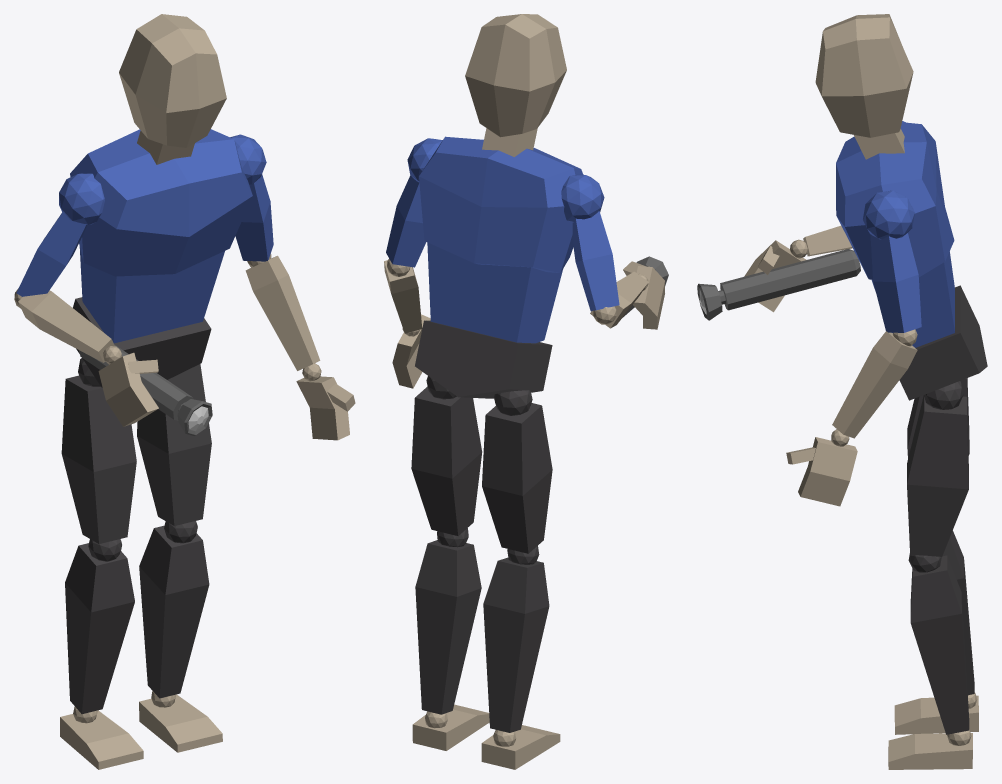
The model's file is PlayerTwo (1).fbx.
3 views of the same model, side by side, from view 1: azimuth 30°, elevation 25°; view 2: azimuth 150°, elevation 25°; view 3: azimuth 270°, elevation 25° (orthographic). The views are drawn at different scales.
Parts seen in each view (by area): view 1: Chest, Head, Tigh.001, Leg, Leg.001, Waist, Tigh, ForeArm, Hip, ForeArm.001, Foot.001, Foot (+10 smaller); view 2: Chest, Head, Waist, Leg.001, Leg, Tigh.001, Tigh, Hip, Arm.001, Arm, Foot, Foot.001 (+8 smaller); view 3: Chest, Head, Tigh, Leg, Circle, Hip, Arm, ForeArm, Foot, Hand, Waist, Shoulder (+7 smaller).
Part boxes in pixels (x1=…): Chest: x1=70, y1=129, x2=252, y2=276; Head: x1=119, y1=14, x2=226, y2=147; Tigh.001: x1=61, y1=375, x2=136, y2=543; Leg: x1=139, y1=525, x2=209, y2=698; Leg.001: x1=65, y1=543, x2=134, y2=714; Waist: x1=79, y1=247, x2=224, y2=343; Tigh: x1=137, y1=364, x2=211, y2=525; ForeArm: x1=245, y1=255, x2=320, y2=370; Hip: x1=73, y1=297, x2=211, y2=387; ForeArm.001: x1=18, y1=290, x2=114, y2=362; Foot.001: x1=60, y1=710, x2=143, y2=769; Foot: x1=139, y1=694, x2=222, y2=752; Chest: x1=419, y1=136, x2=583, y2=272; Head: x1=465, y1=14, x2=566, y2=137; Waist: x1=427, y1=242, x2=562, y2=343; Leg.001: x1=483, y1=557, x2=549, y2=732; Leg: x1=415, y1=540, x2=481, y2=714; Tigh.001: x1=482, y1=403, x2=552, y2=553; Tigh: x1=411, y1=386, x2=482, y2=535; Hip: x1=415, y1=320, x2=552, y2=398; Arm.001: x1=572, y1=211, x2=619, y2=311; Arm: x1=386, y1=175, x2=426, y2=267; Foot: x1=412, y1=704, x2=489, y2=750; Foot.001: x1=481, y1=725, x2=560, y2=769; Chest: x1=836, y1=122, x2=954, y2=279; Head: x1=815, y1=14, x2=913, y2=137; Tigh: x1=907, y1=395, x2=968, y2=556; Leg: x1=910, y1=555, x2=969, y2=734; Circle: x1=697, y1=249, x2=860, y2=320; Hip: x1=899, y1=285, x2=987, y2=400; Arm: x1=870, y1=233, x2=921, y2=332; ForeArm: x1=832, y1=331, x2=917, y2=438; Foot: x1=888, y1=733, x2=972, y2=769; Hand: x1=798, y1=437, x2=857, y2=506; Waist: x1=871, y1=251, x2=954, y2=347; Shoulder: x1=863, y1=190, x2=914, y2=239.
Size of the model in its own units: 97.64 by 248 by 90.19.
